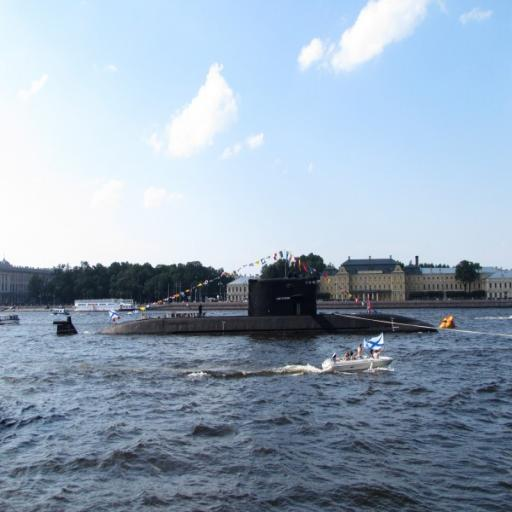submarine: (54, 276, 448, 341)
